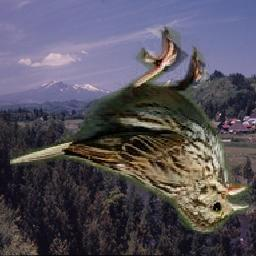Sparrow: (10, 25, 252, 236)
